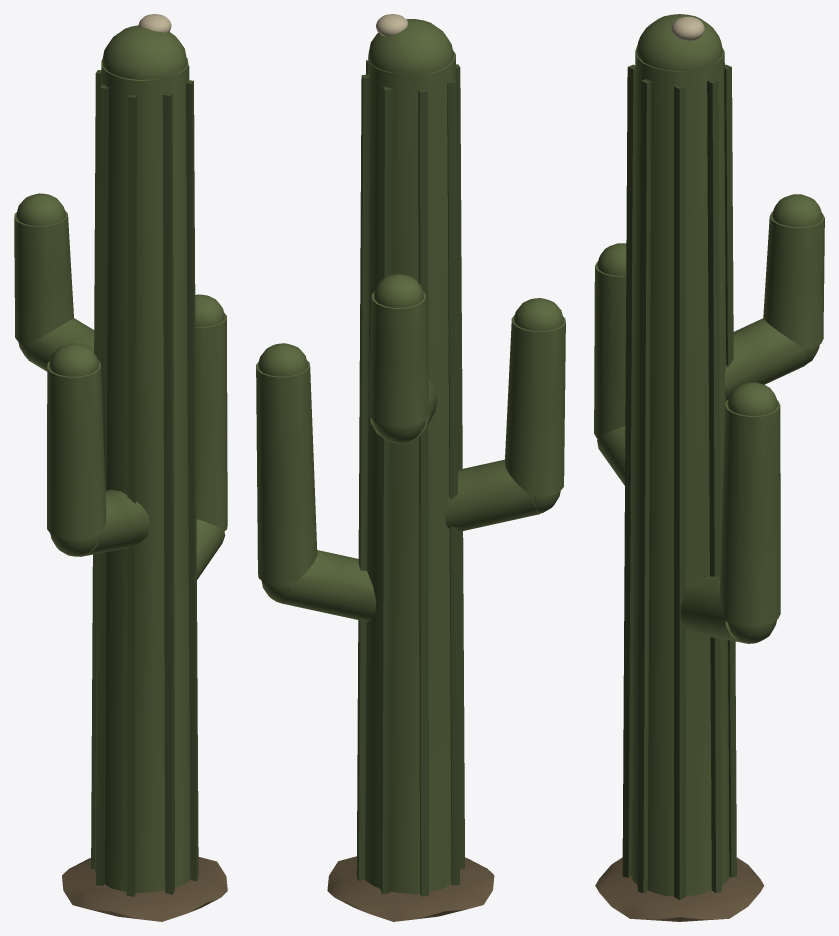
The model's file is saguaro_b.glb.
3 views of the same model, side by side, from view 1: azimuth 30°, elevation 25°; view 2: azimuth 150°, elevation 25°; view 3: azimuth 270°, elevation 25° (orthographic).
Parts seen in each view (by area): view 1: Surface; view 2: Surface; view 3: Surface.
Boxes of the visible parts, bbox=[...] form: Surface: bbox=[14, 14, 227, 921]; Surface: bbox=[256, 14, 565, 921]; Surface: bbox=[594, 14, 824, 921].
Bounding box in the file's own units: 1.68 × 5.92 × 1.39.
